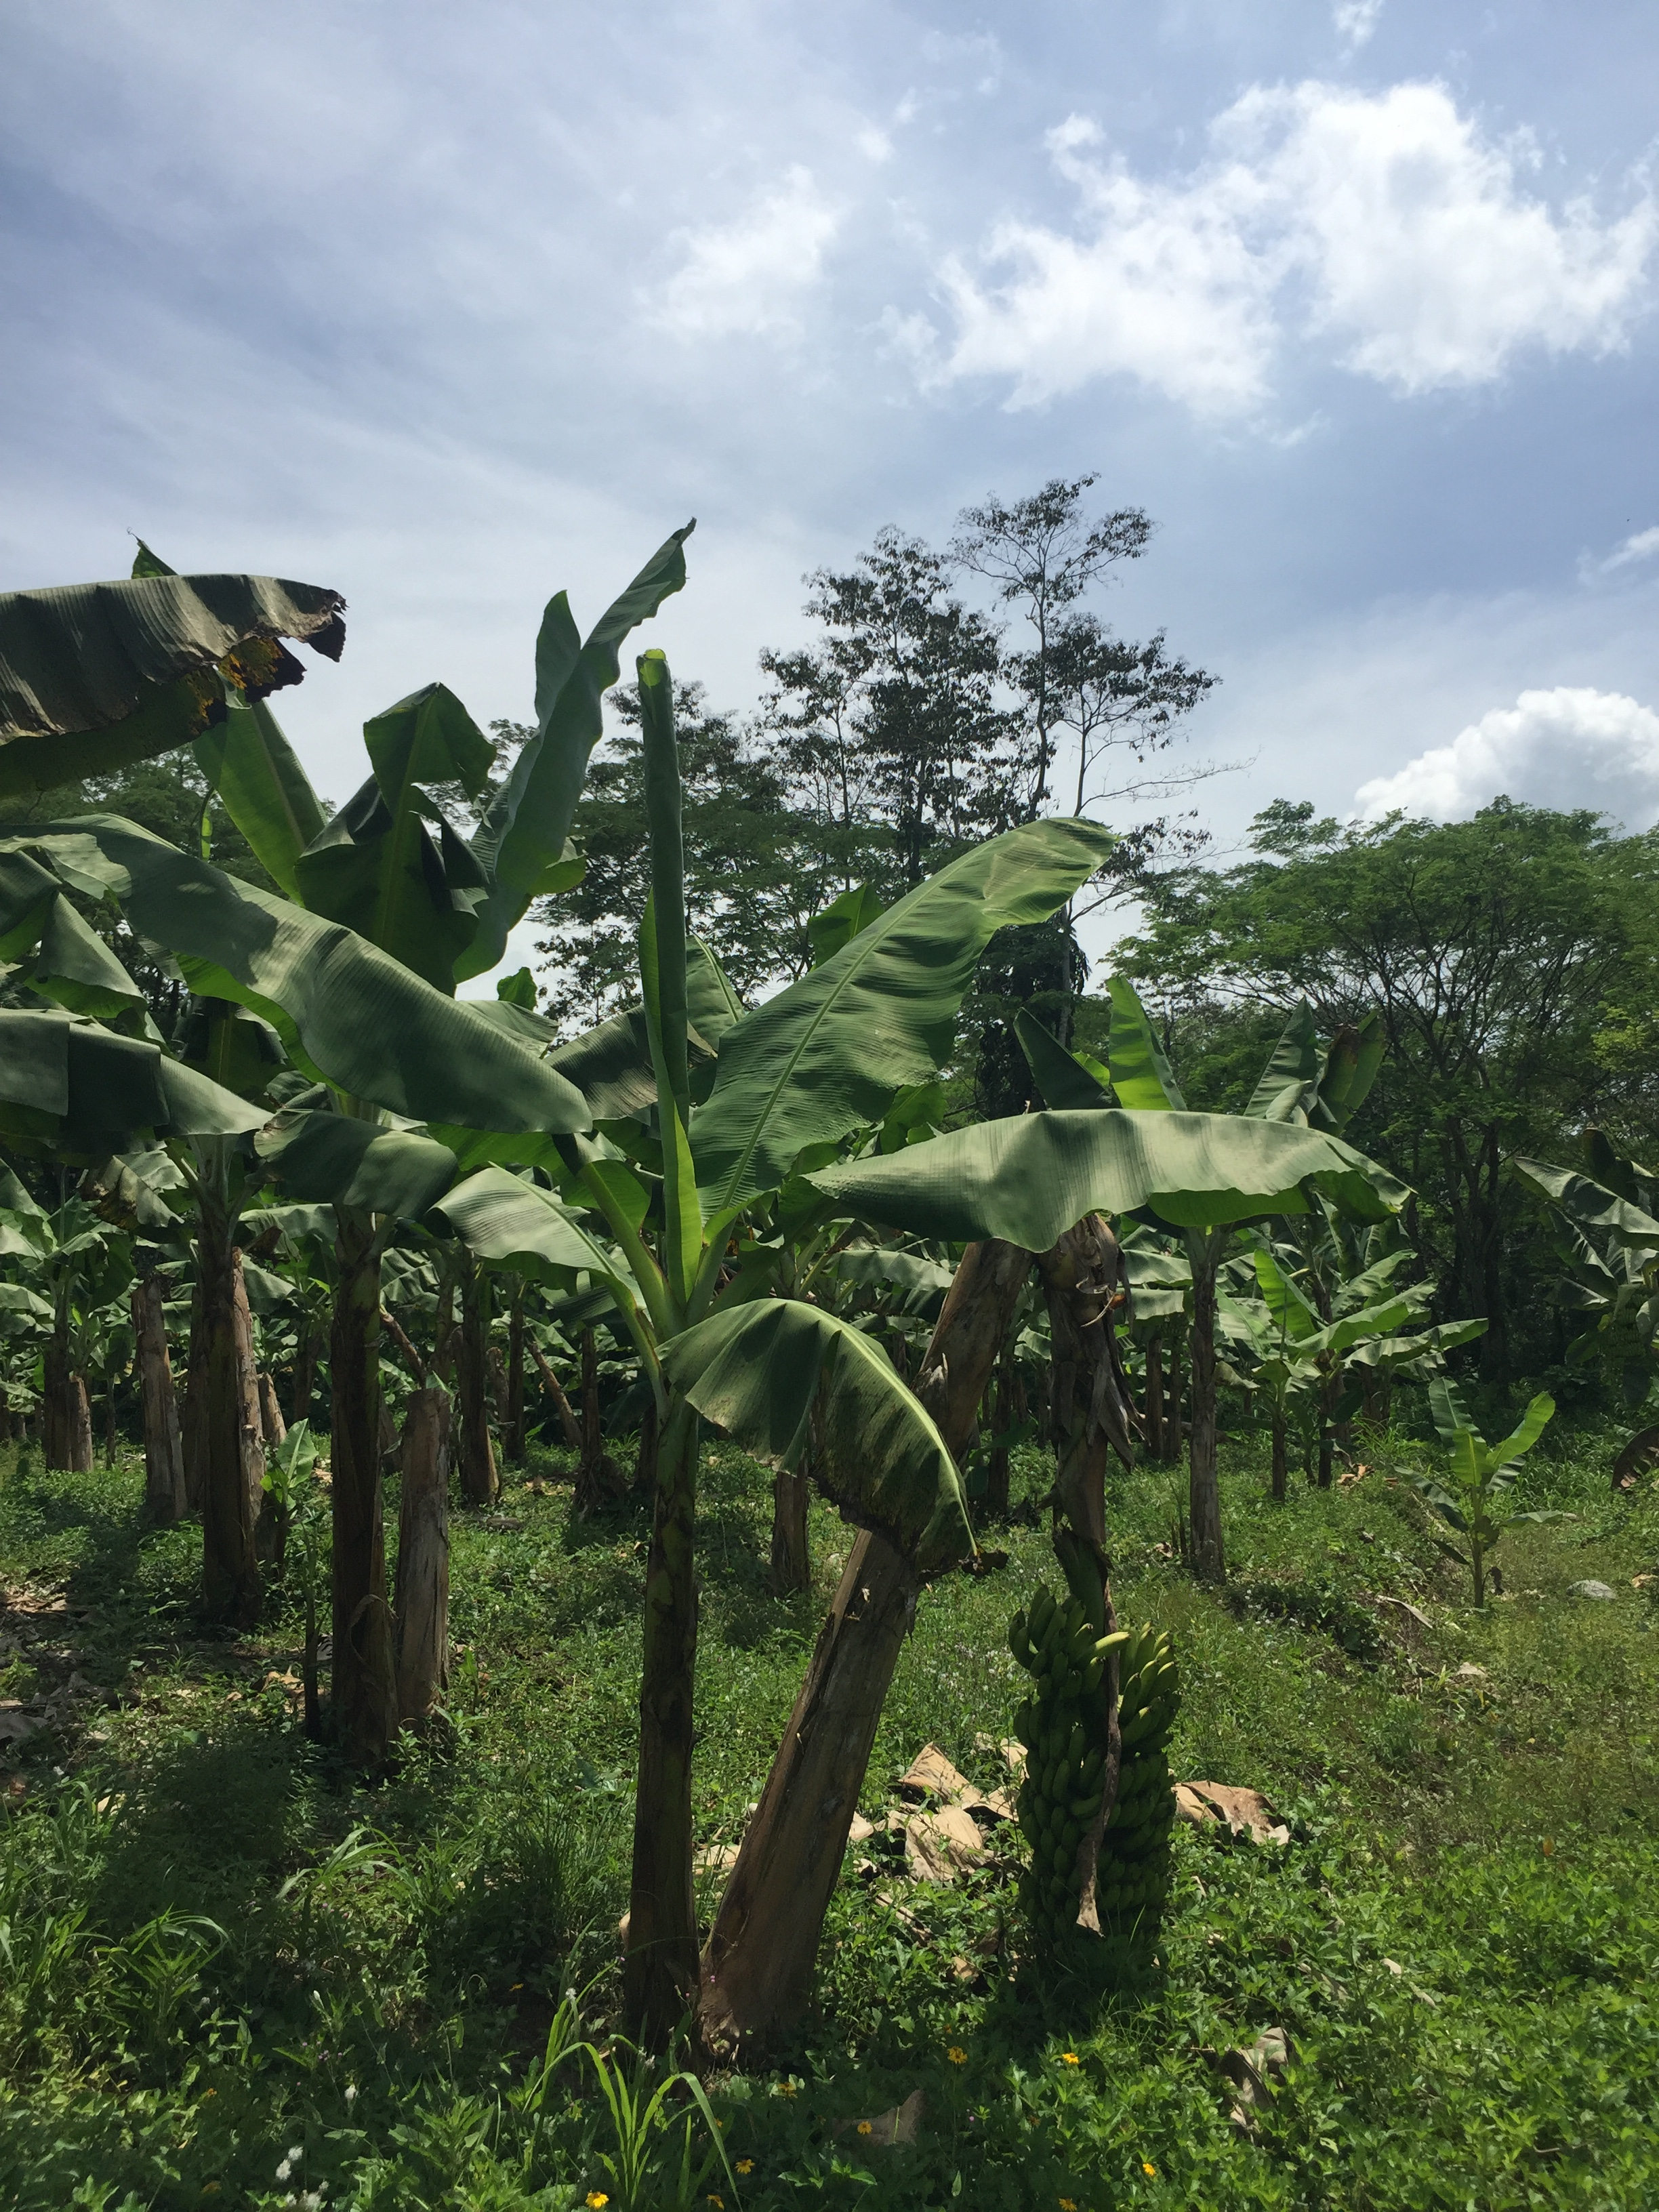candleleafs: (636, 650, 702, 1308)
